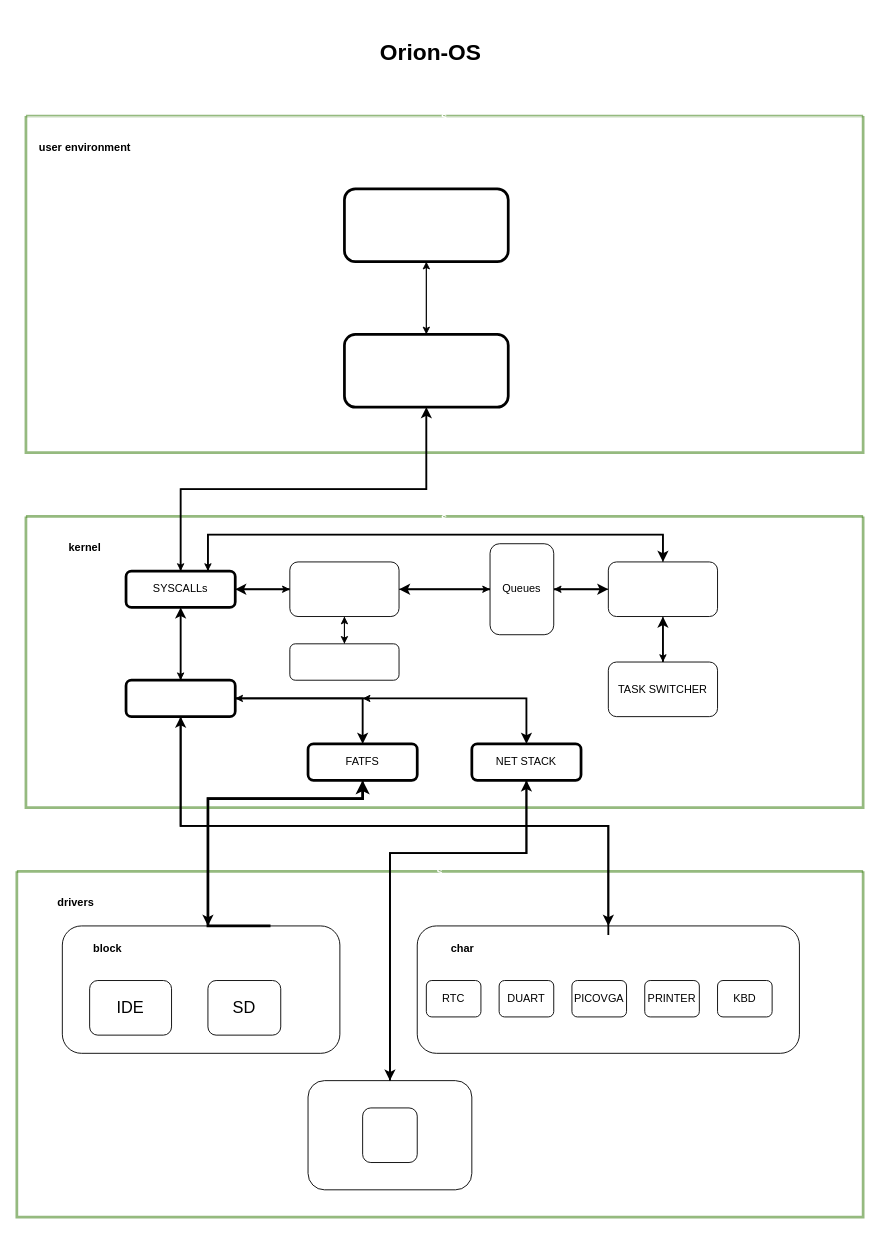
The diagram is 880 pixels wide and 1234 high, and some of its shapes have lost their labels. Each missing label, with the box of its shape:
APPLICATIONS: (343, 187, 509, 263)
LIBc CALLED BY APP. TO ACCESS SYSTEM CALL (SYSCALL): (343, 333, 509, 408)
MM(SLOTS): (289, 643, 399, 680)
SCHEDULER: (607, 561, 718, 617)
TASK CREATOR: (289, 561, 399, 617)
VFS: (124, 678, 236, 718)
W5100: (362, 1107, 417, 1163)
